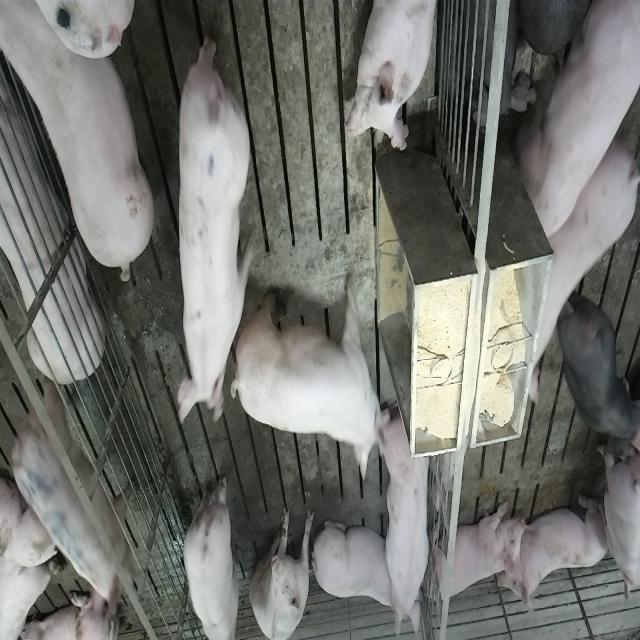Feeding: (231, 255, 388, 480)
Lateral_lying: (0, 54, 102, 382)
Sitting: (379, 402, 435, 632), (248, 501, 314, 639)
Standing: (3, 363, 134, 624), (180, 22, 260, 422), (516, 0, 638, 238), (536, 127, 638, 340), (554, 283, 638, 445), (182, 473, 241, 640)
Sternal_lying: (346, 0, 441, 152), (500, 491, 610, 620), (427, 499, 521, 608), (315, 516, 402, 610)
